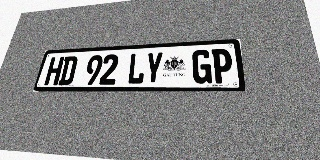2: (99, 54, 119, 85)
9: (83, 55, 104, 85)
D: (58, 56, 78, 85)
G: (192, 49, 212, 84)
H: (44, 57, 64, 85)
L: (126, 53, 146, 84)
P: (211, 48, 234, 83)
Y: (144, 52, 163, 84)
